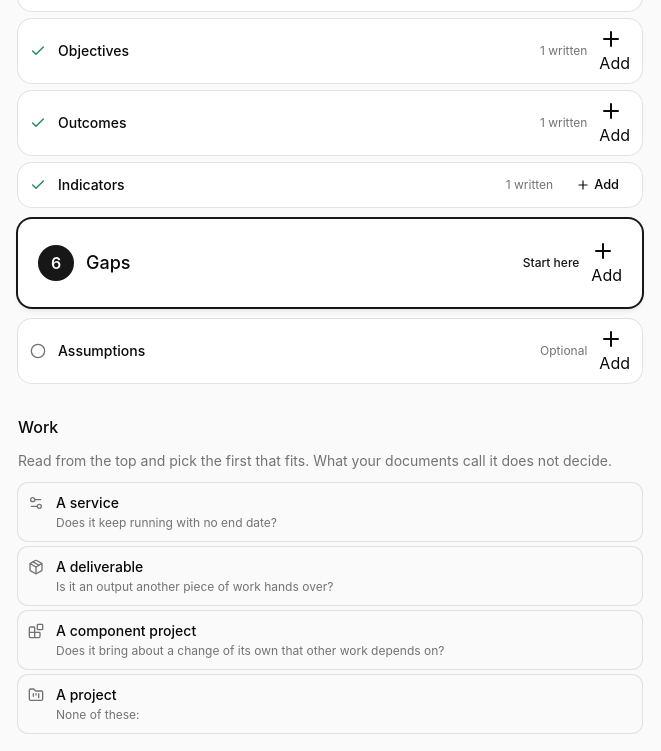
Scenario: New, in the order of work › asks what the work is by the engine's questions, and says what follows
The width and height of the screenshot is (661, 751).
(page scrolled)
Click the button "Does it bring about a change of its own" at [330, 640], box [18,611,642,669]
(page scrolled)
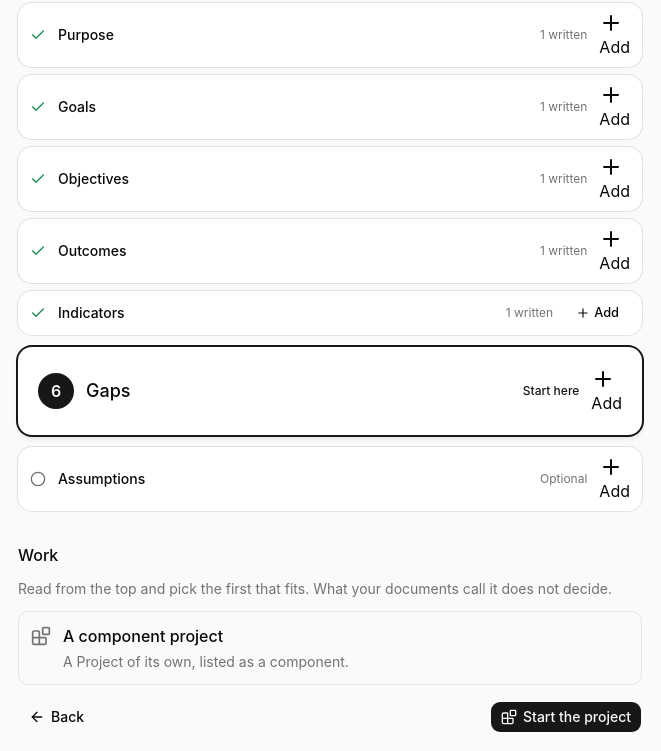
Result: the text "A Project of its own, listed as a component." is shown at [63,652,349,672]
Result: the button "Start the project" is shown at [490,701,642,733]
Click the button "Back" at [57, 717], box [18,701,95,733]
(page scrolled)
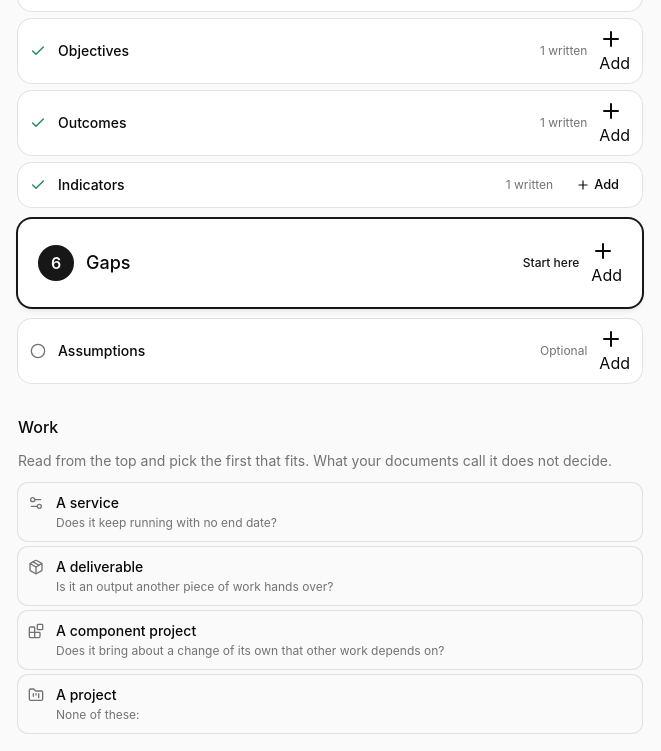
Click the button "an output another piece of work hands over" at [330, 576], box [18,547,642,605]
(page scrolled)
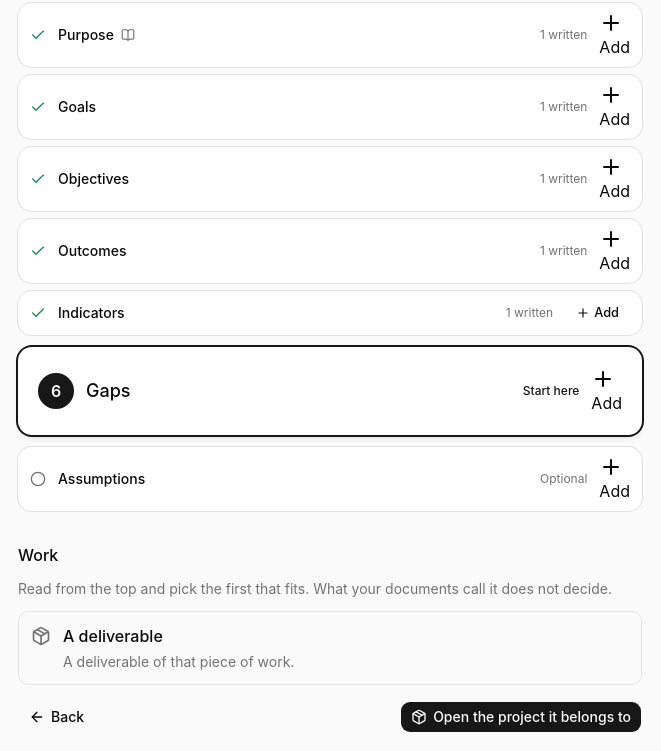
Result: the button "Open the project it belongs to" is shown at [400,701,642,733]
